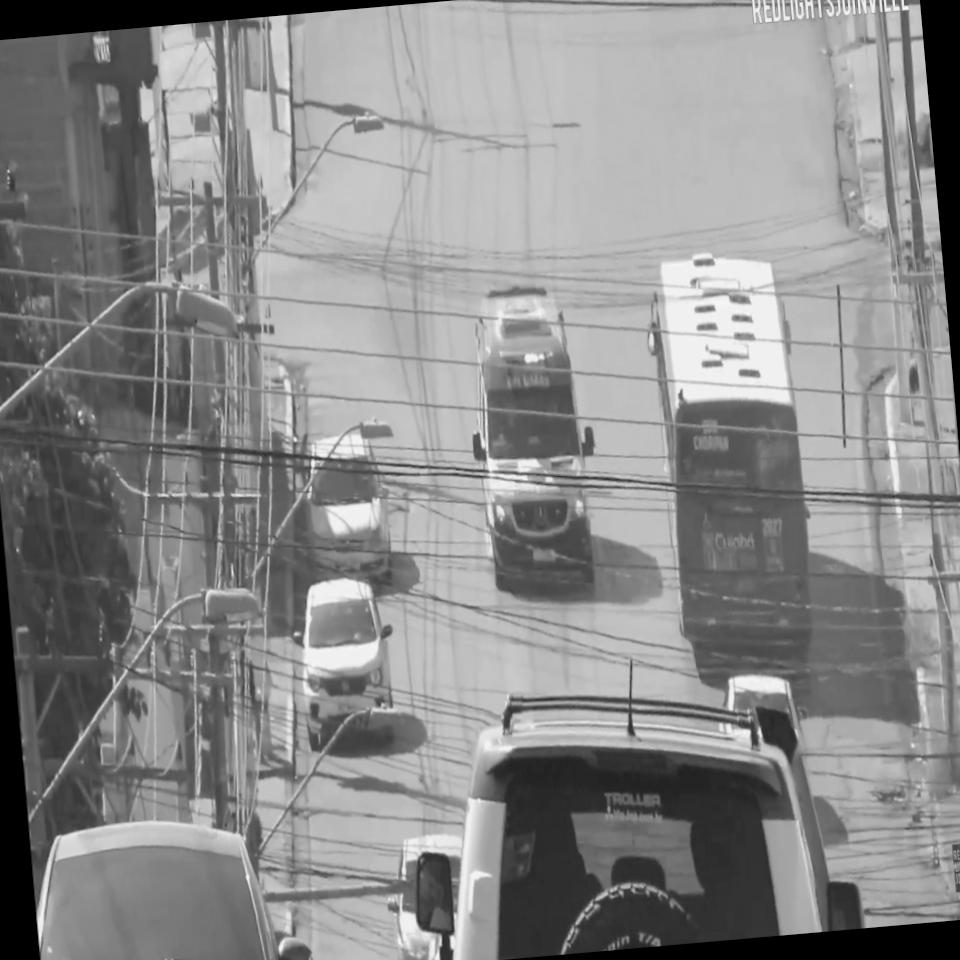bombeiro: (457, 279, 609, 596)
